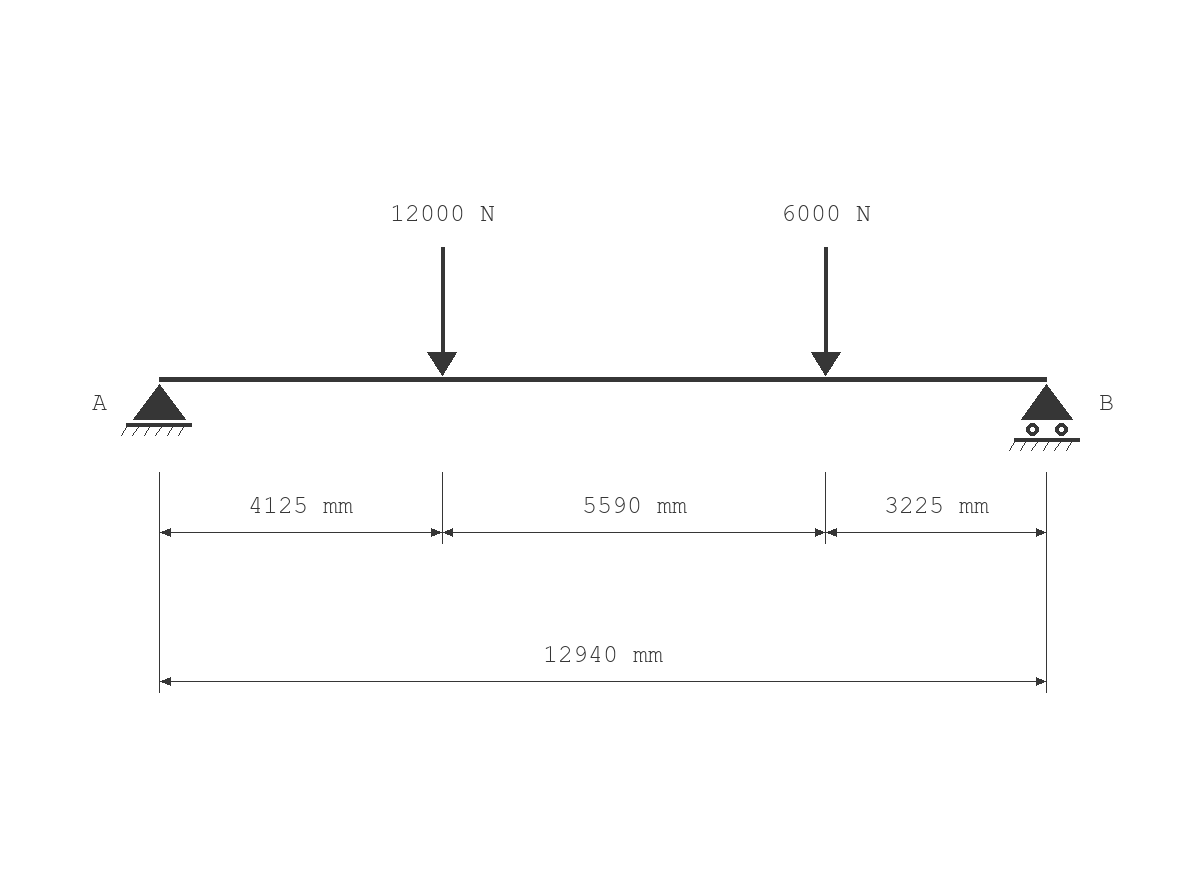pin_support: (121, 384, 192, 436)
point_load: (427, 247, 457, 376), (811, 247, 841, 376)
roller_support: (1009, 384, 1080, 451)
